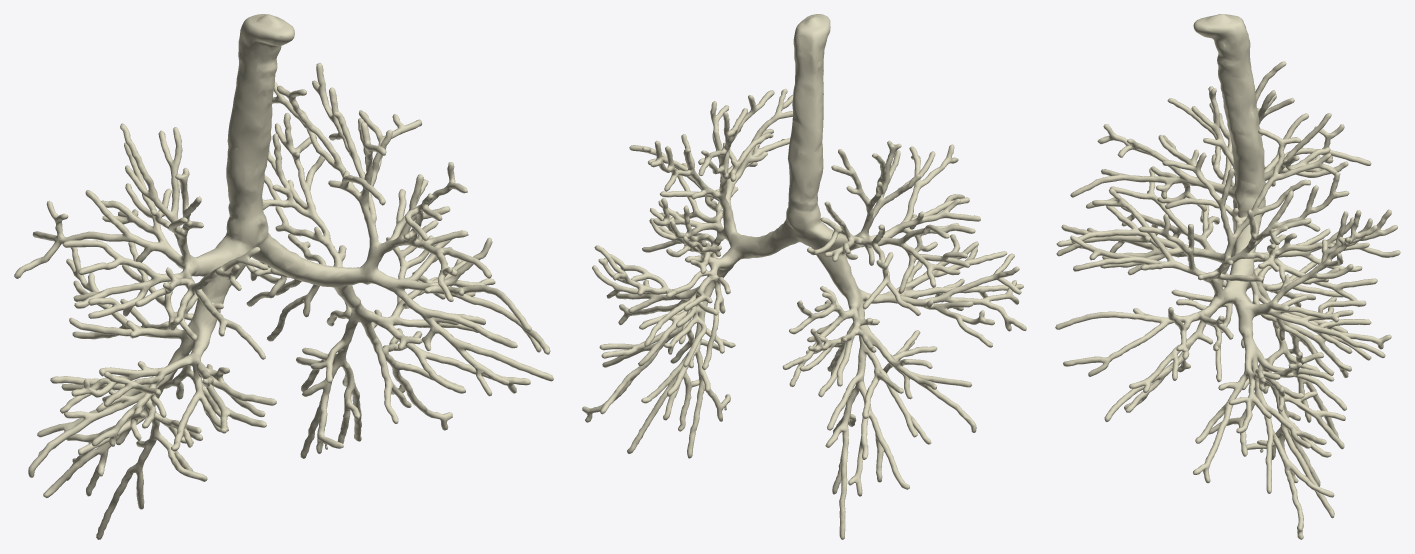
File: Airway.glb
The picture shows the model from 3 angles, left to right: view 1: azimuth 30°, elevation 25°; view 2: azimuth 150°, elevation 25°; view 3: azimuth 270°, elevation 25°; orthographic projection. The views are drawn at different scales.
Visible parts, largest first — view 1: Final_airway_target; view 2: Final_airway_target; view 3: Final_airway_target.
Part boxes in pixels (x1=…): Final_airway_target: x1=14, y1=14, x2=553, y2=539; Final_airway_target: x1=582, y1=14, x2=1026, y2=539; Final_airway_target: x1=1055, y1=14, x2=1400, y2=539.
Size of the model in its own units: 0.2482 by 0.2807 by 0.1867.
